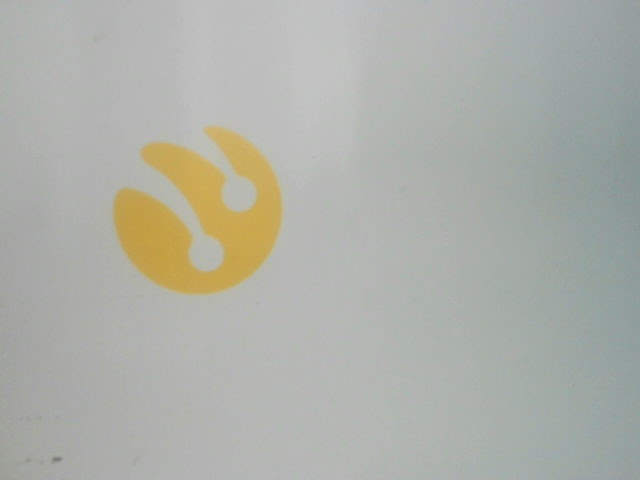AV_H3600Yellow: (103, 120, 299, 301)
